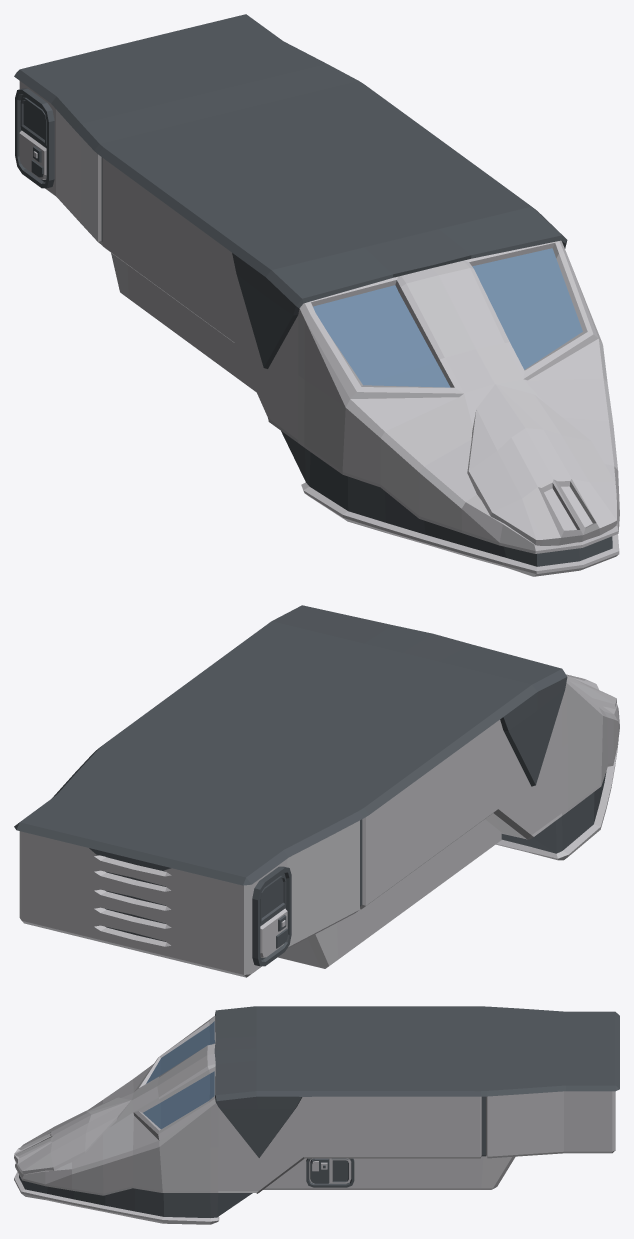
File: Fighter_04_Body.fbx
3 renders of one model, top to bottom at view 1: azimuth 30°, elevation 25°; view 2: azimuth 150°, elevation 25°; view 3: azimuth 270°, elevation 25°, orthographic. The views are drawn at different scales.
Visible parts, largest first — view 1: Fighter_04_Body; view 2: Fighter_04_Body; view 3: Fighter_04_Body.
Part boxes in pixels (left/top/right/bottom): Fighter_04_Body: left=14, top=14, right=619, bottom=576; Fighter_04_Body: left=14, top=605, right=619, bottom=977; Fighter_04_Body: left=14, top=1006, right=619, bottom=1224.
Size of the model in its own units: 538 by 381 by 1554.
Materials: 3 (3 with a texture image).
